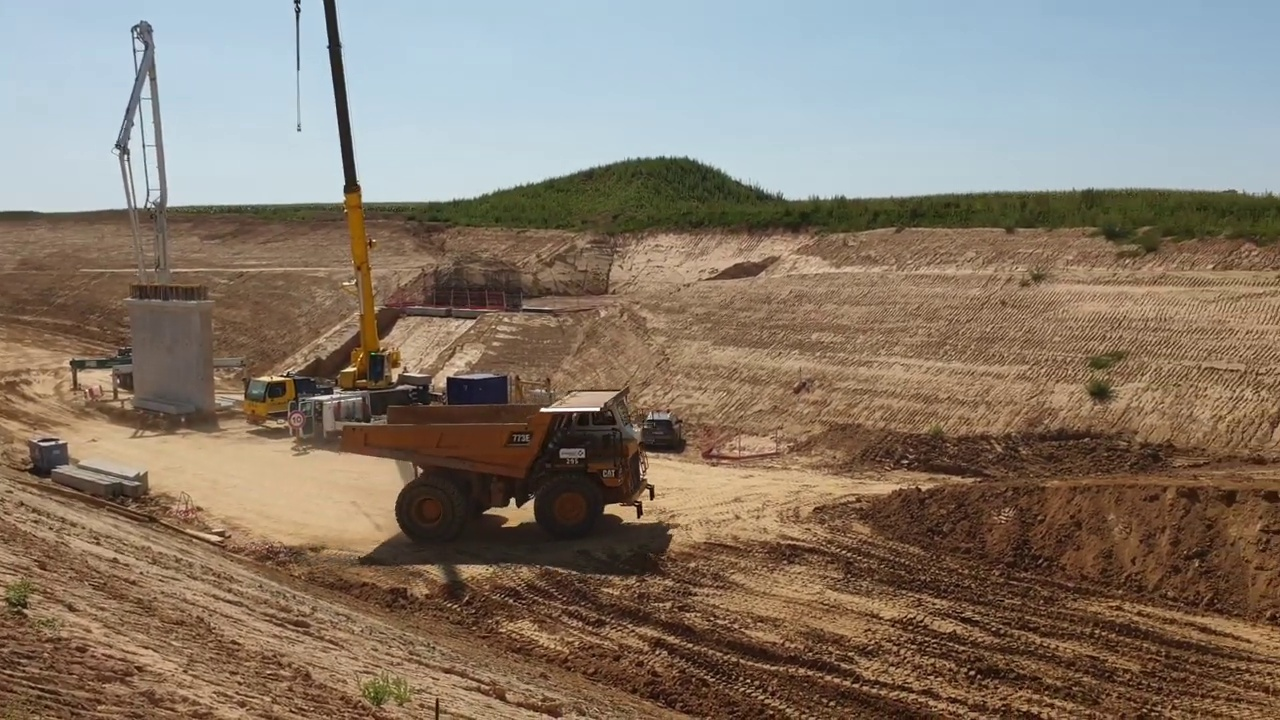crane: (245, 1, 447, 448)
truck: (336, 383, 660, 545)
